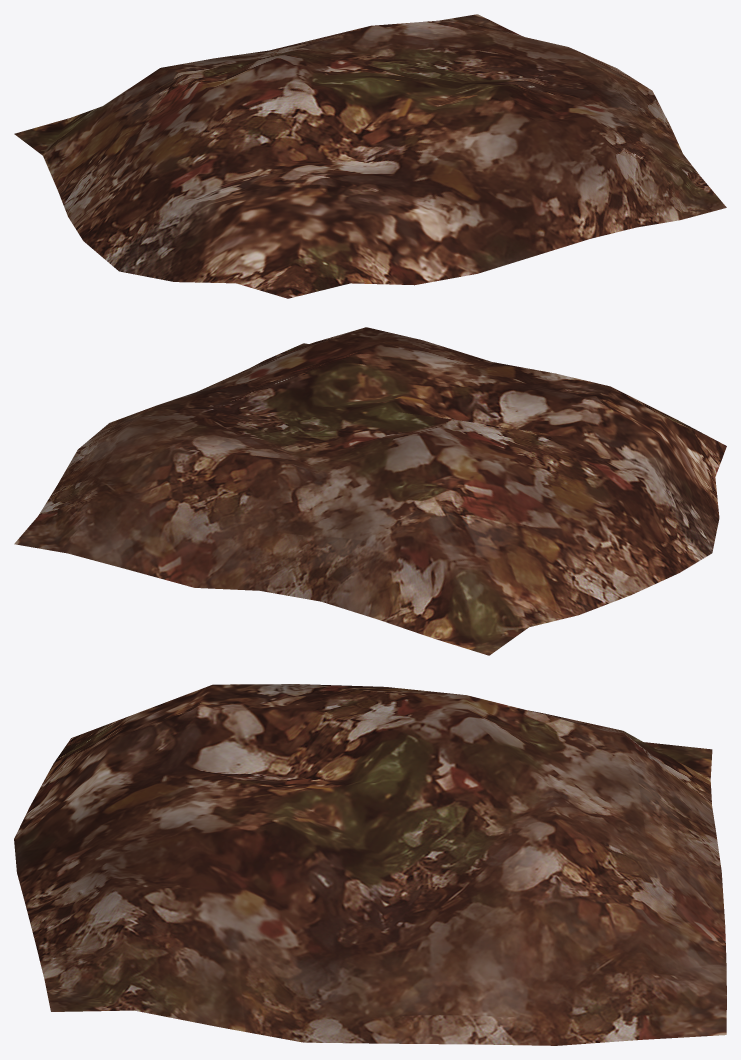
Rendered from SM_Tas_01.fbx.
3 views of the same model, one above another, from view 1: azimuth 30°, elevation 25°; view 2: azimuth 150°, elevation 25°; view 3: azimuth 270°, elevation 25° (orthographic). The views are drawn at different scales.
Visible parts, largest first — view 1: pCube1; view 2: pCube1; view 3: pCube1.
Part boxes in pixels (left/top/right/bottom): pCube1: left=14, top=14, right=726, bottom=298; pCube1: left=14, top=327, right=726, bottom=655; pCube1: left=14, top=684, right=726, bottom=1045.
Size of the model in its own units: 163 by 30.13 by 141.
Materials: 1 (1 with a texture image).
